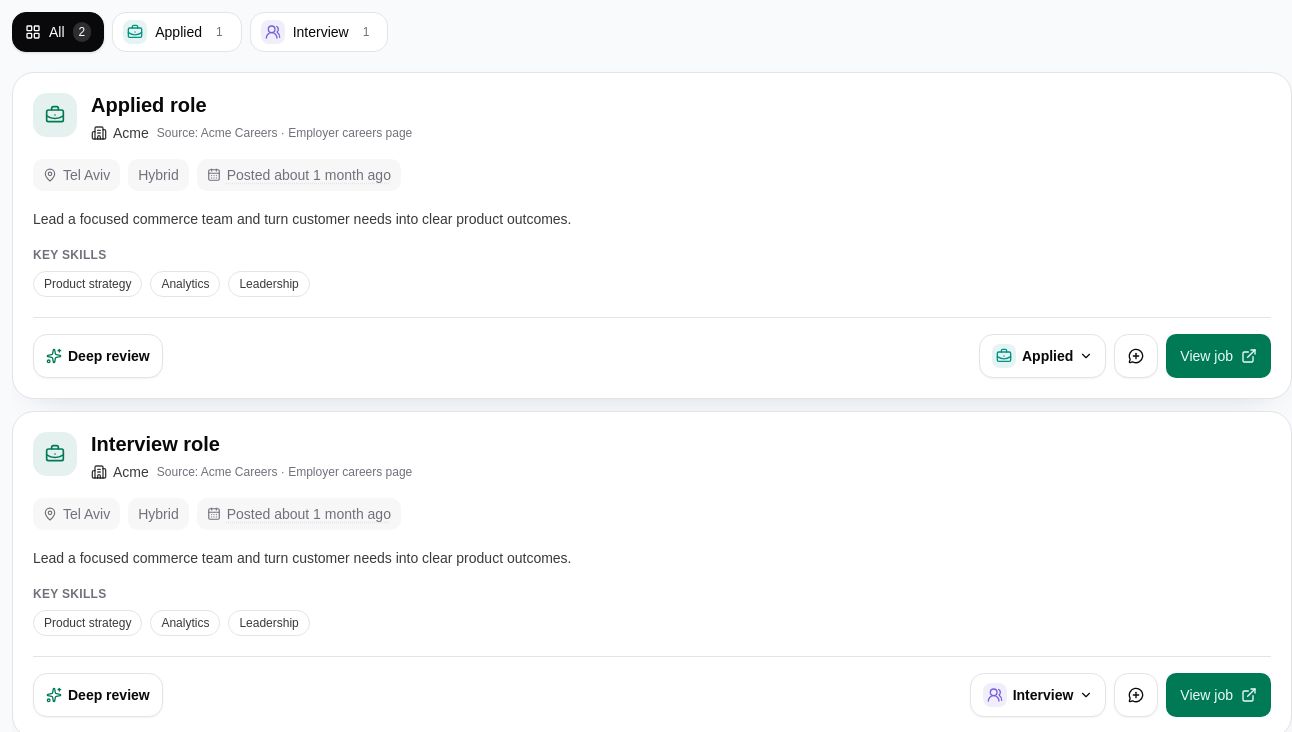
it: job result cards › shows only statuses in use, with All first, and filters exactly
The image size is (1292, 732).
Expected: the button "All 2" is shown, [12,12,104,52]
Expected: the button "Applied 1" is shown, [112,12,242,52]
Click the button "Interview 1". click: point(319, 32)
box: [250,12,388,52]
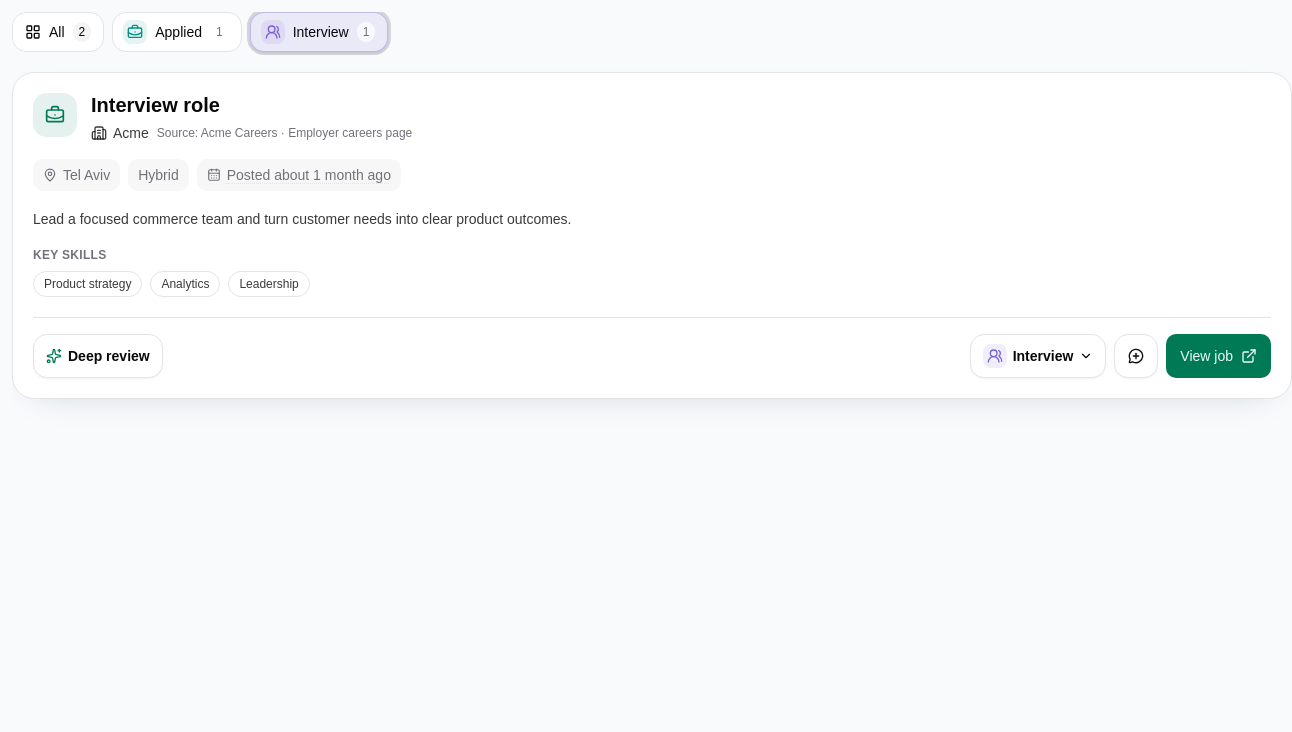
Expected: the heading "Interview role" is shown, [91,94,220,116]
Expected: the heading "Applied role" is gone
